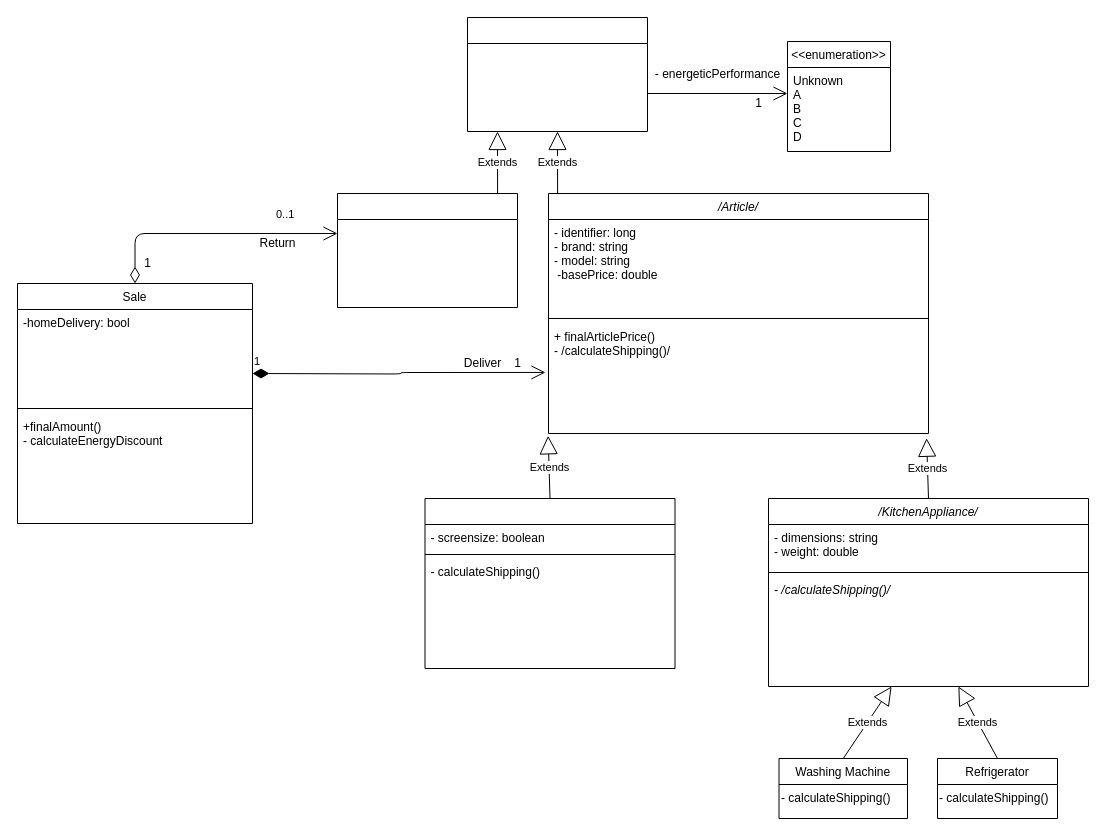
Image size: 1106x836. Some labels were removed from this diagram. The box of each missing label's shape, as (x1, y1, x2, y2) in pixels:
Appliance: (466, 16, 648, 132)
Old: (336, 192, 518, 308)
Television: (424, 498, 675, 668)
